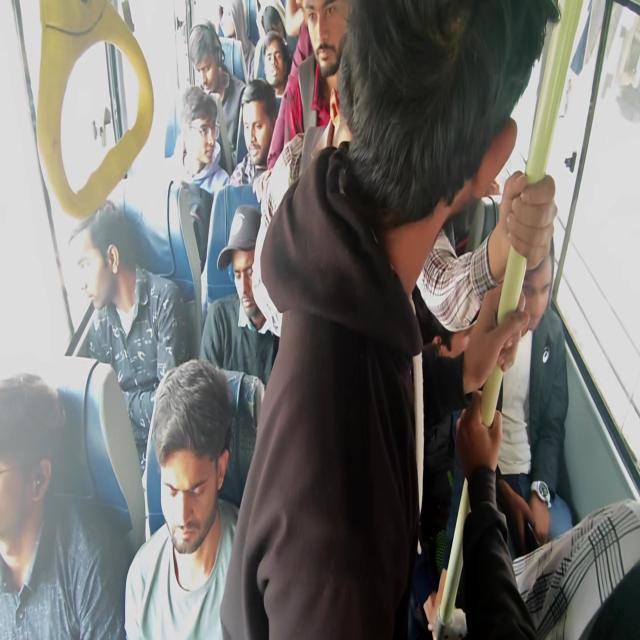person: (346, 8, 560, 186), (58, 212, 160, 354), (132, 376, 216, 514), (217, 228, 296, 335), (494, 228, 552, 331), (301, 2, 354, 77), (195, 36, 238, 101), (185, 121, 225, 176), (259, 39, 297, 87), (240, 93, 274, 143), (259, 6, 294, 38), (218, 1, 242, 34)
